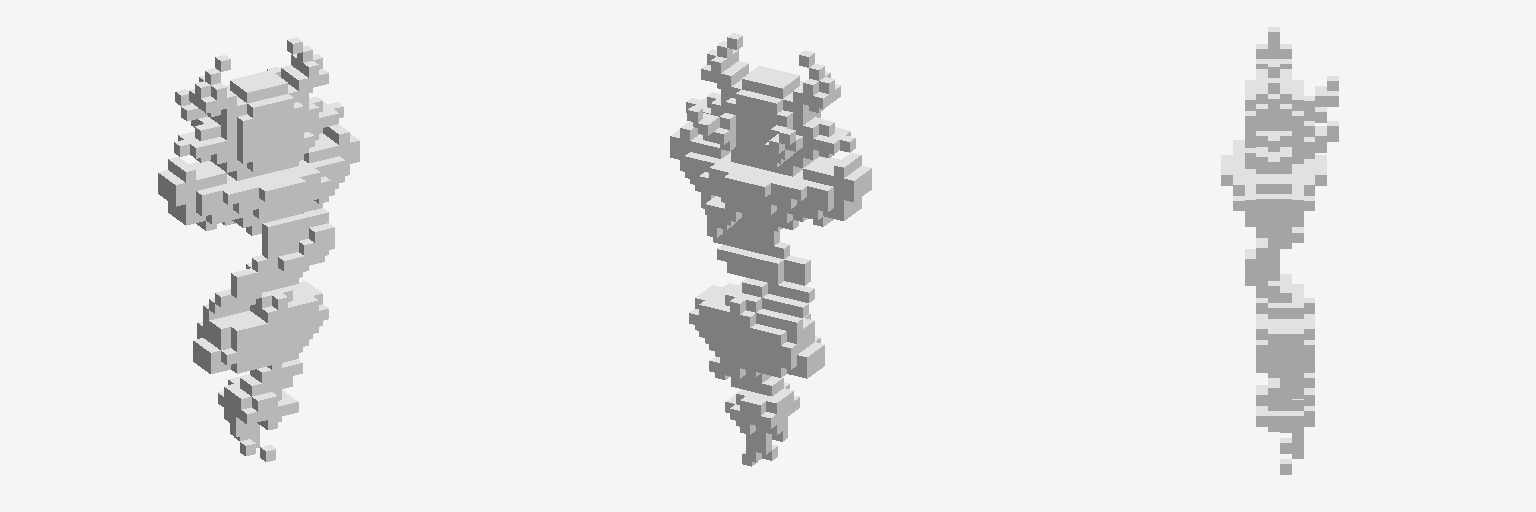
Rendered from 3DSnowDevil2.obj.
The picture shows the model from 3 angles: view 1: azimuth 30°, elevation 25°; view 2: azimuth 150°, elevation 25°; view 3: azimuth 270°, elevation 25°; orthographic projection.
Parts seen in each view (by area): view 1: SnowDevil-2; view 2: SnowDevil-2; view 3: SnowDevil-2.
Part boxes in pixels (x1,y1,x2,y2): SnowDevil-2: (158, 37, 359, 461); SnowDevil-2: (670, 33, 871, 466); SnowDevil-2: (1221, 27, 1338, 474).
Size of the model in its own units: 1.8 by 3.9 by 1.